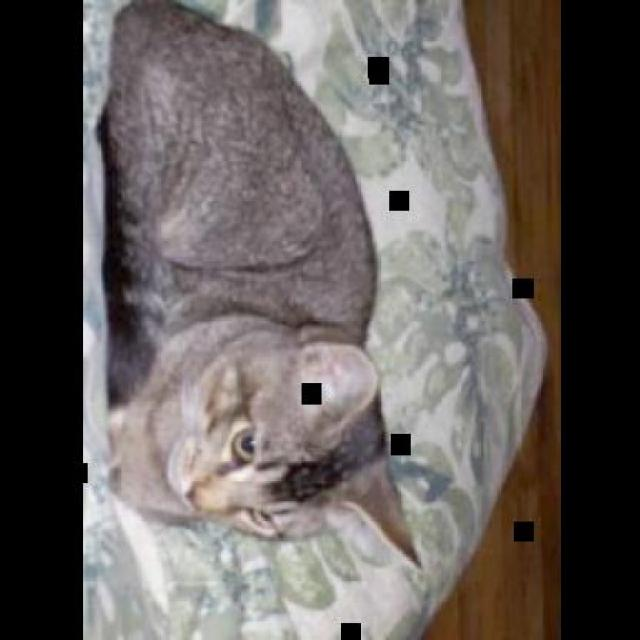unauthorized: (94, 0, 423, 569)
